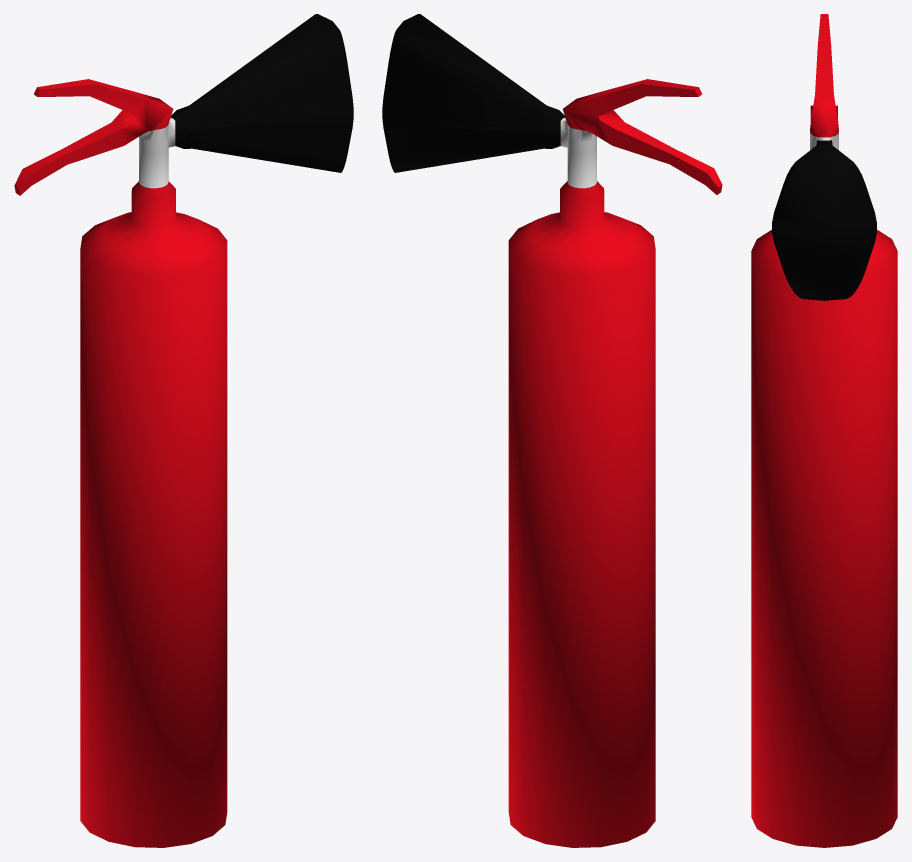
File: fire extinguisher.fbx
3 views of the same model, side by side, from view 1: azimuth 30°, elevation 25°; view 2: azimuth 150°, elevation 25°; view 3: azimuth 270°, elevation 25° (orthographic).
Parts seen in each view (by area): view 1: Cylinder; view 2: Cylinder; view 3: Cylinder.
Boxes of the visible parts, box(x1,y1,x2,y2) form: Cylinder: box(14, 14, 353, 847); Cylinder: box(382, 14, 722, 847); Cylinder: box(751, 14, 897, 847).
Size of the model in its own units: 1.92 by 4.38 by 0.7765.
